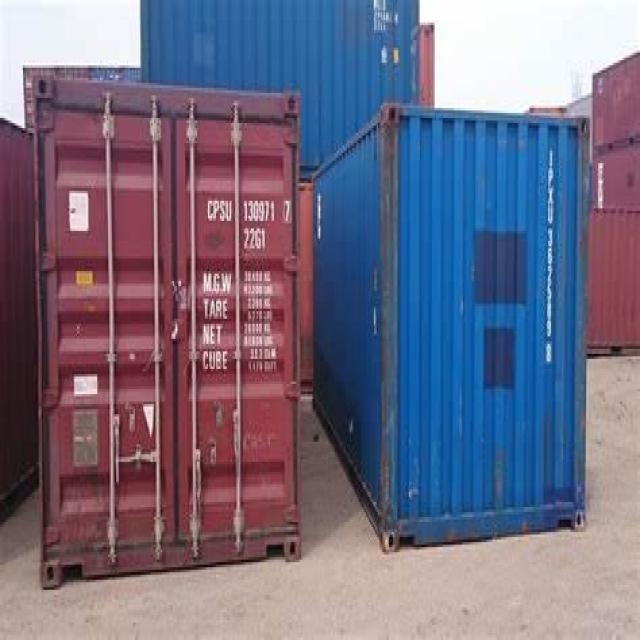ISO: (243, 228, 270, 250)
container_number: (208, 200, 290, 223)
